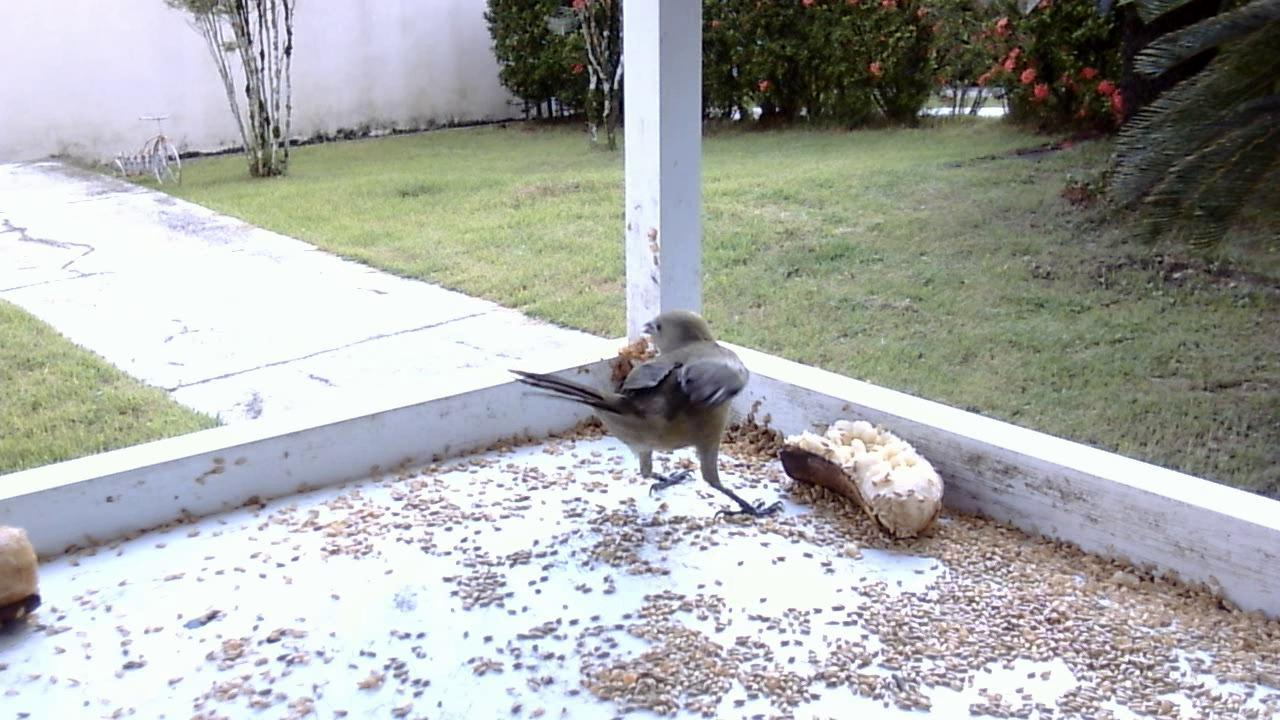sanhaco_do_coqueiro: (506, 302, 775, 527)
